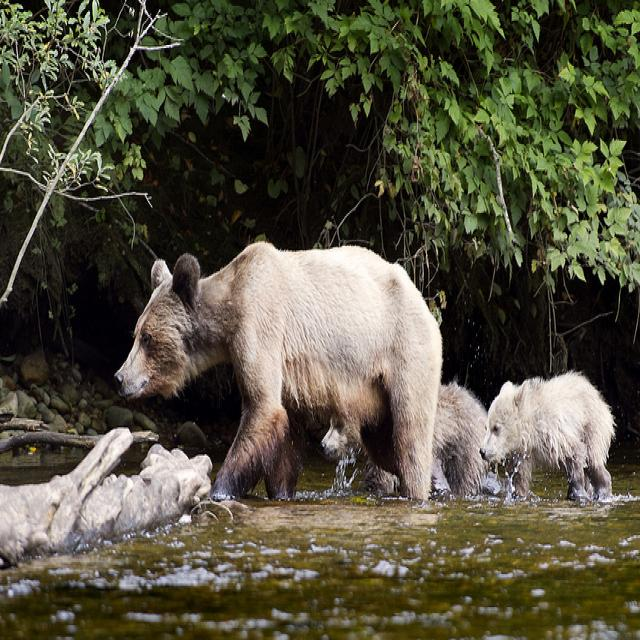Bear: (99, 236, 438, 505), (486, 368, 611, 497)
